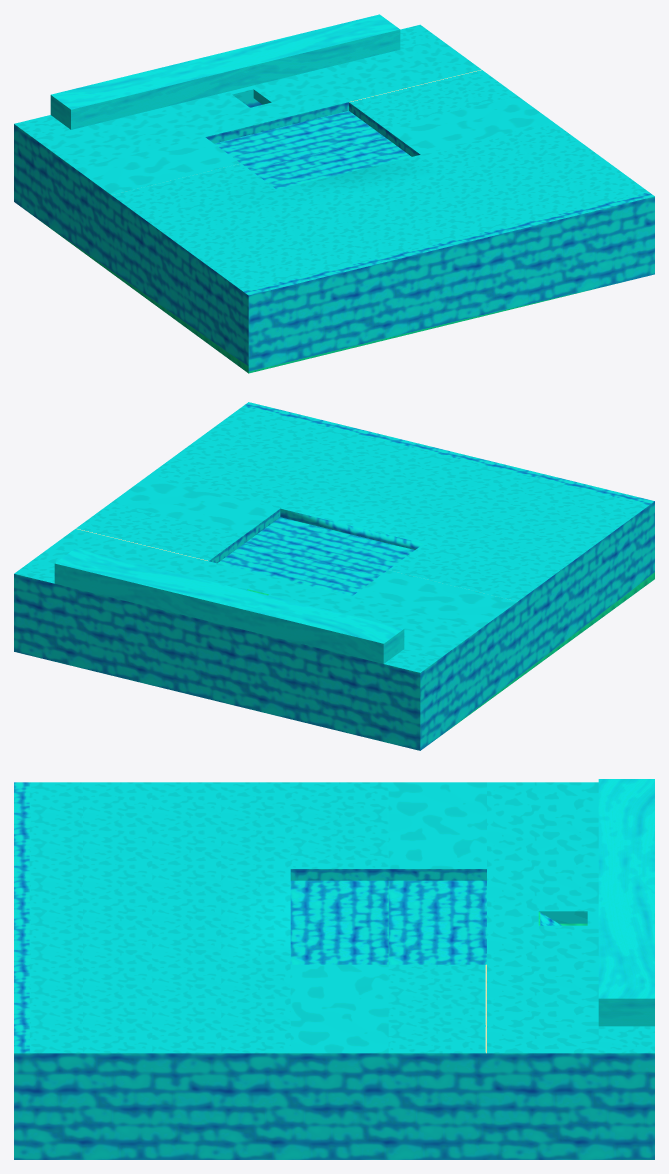
File: SM_Temple_Terrain_01.fbx
3 renders of one model, top to bottom at view 1: azimuth 30°, elevation 25°; view 2: azimuth 150°, elevation 25°; view 3: azimuth 270°, elevation 25°, orthographic. The views are drawn at different scales.
Parts seen in each view (by area): view 1: SM_Temple_Terrain_01; view 2: SM_Temple_Terrain_01; view 3: SM_Temple_Terrain_01.
Part boxes in pixels (x1,y1,x2,y2): SM_Temple_Terrain_01: (14,14,654,373); SM_Temple_Terrain_01: (14,402,654,750); SM_Temple_Terrain_01: (14,779,654,1159).
Bounding box in the file's own units: 100 × 23.09 × 100.
1 material, 1 textured.
